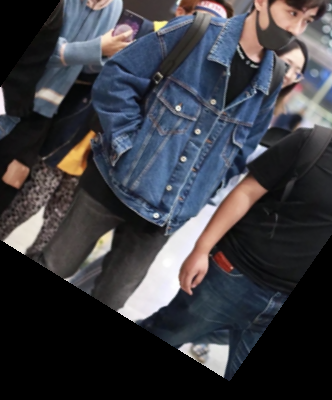mask_weared_incorrect: (237, 1, 331, 63)
